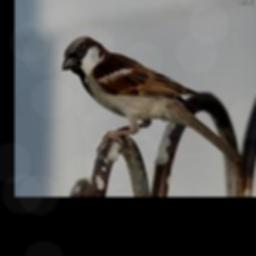Sparrow: (62, 36, 241, 164)
